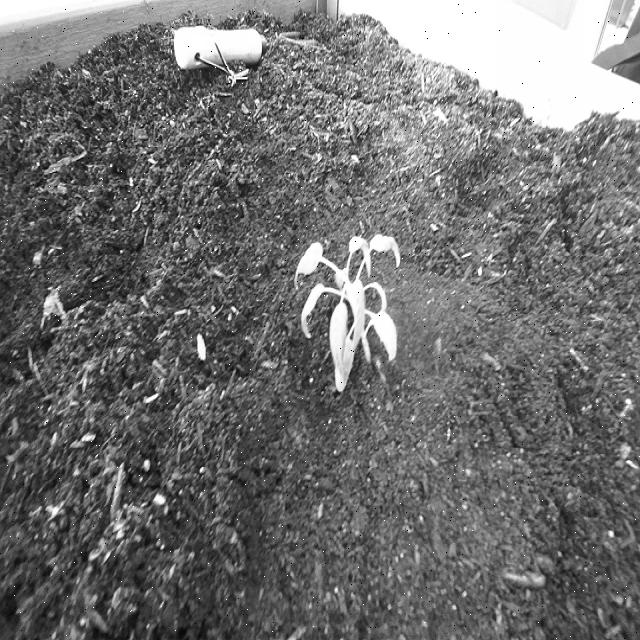Healthy: (294, 229, 402, 396)
